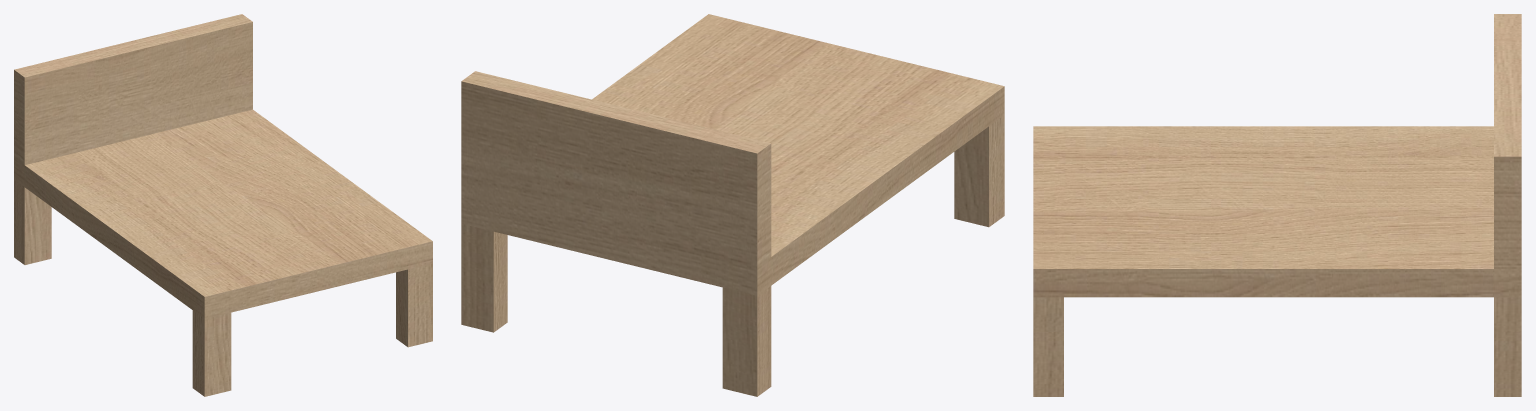
The model's file is BEDFRAME.fbx.
3 views of the same model, side by side, from view 1: azimuth 30°, elevation 25°; view 2: azimuth 150°, elevation 25°; view 3: azimuth 270°, elevation 25° (orthographic). The views are drawn at different scales.
Visible parts, largest first — view 1: Bed; view 2: Bed; view 3: Bed.
Boxes of the visible parts, bbox=[...] form: Bed: bbox=[14, 14, 432, 396]; Bed: bbox=[461, 14, 1004, 396]; Bed: bbox=[1033, 14, 1521, 396].
Bounding box in the file's own units: 519 × 408 × 751.
